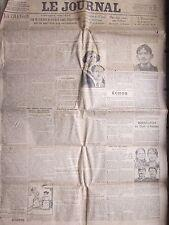paper: (0, 0, 166, 224)
